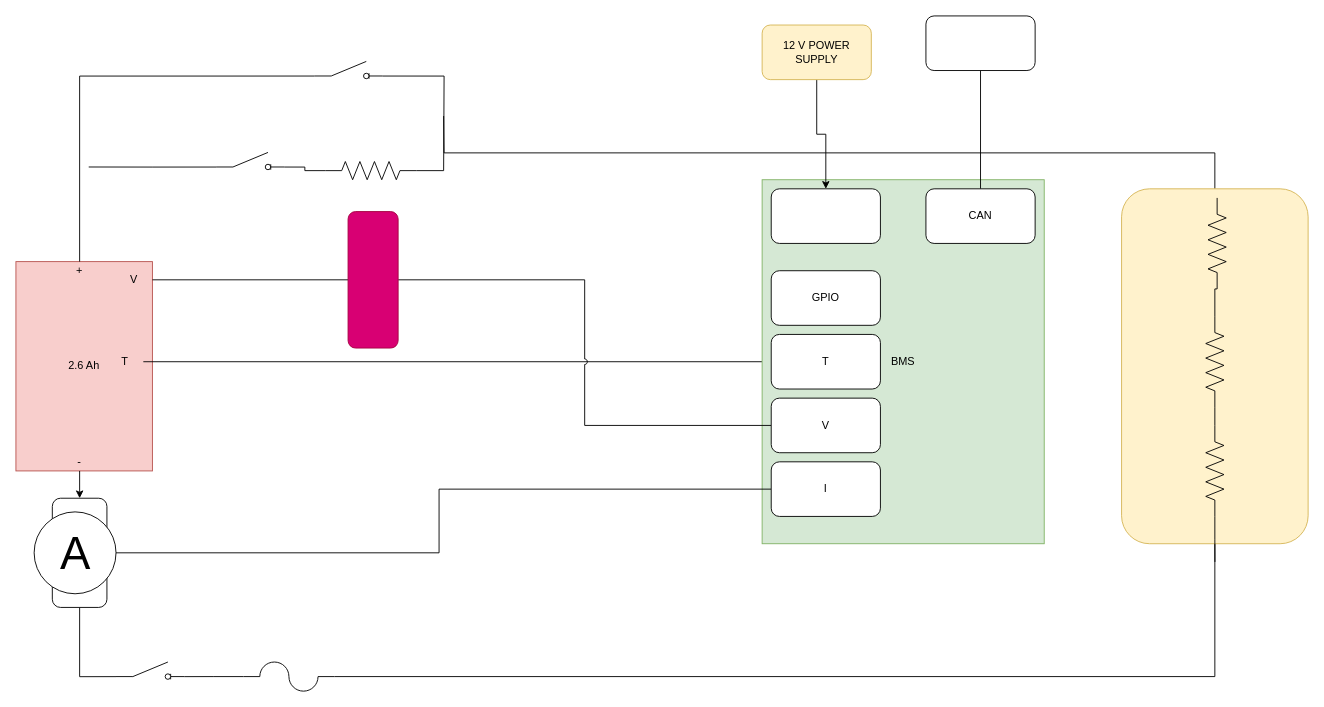
This 1324x707 diagram has some shape labels left out. Here are the shapes that lost their labels. From the top down, the centre of each, then its label:
At [980,43]: "DSUB".
At [825,215]: "12V".
